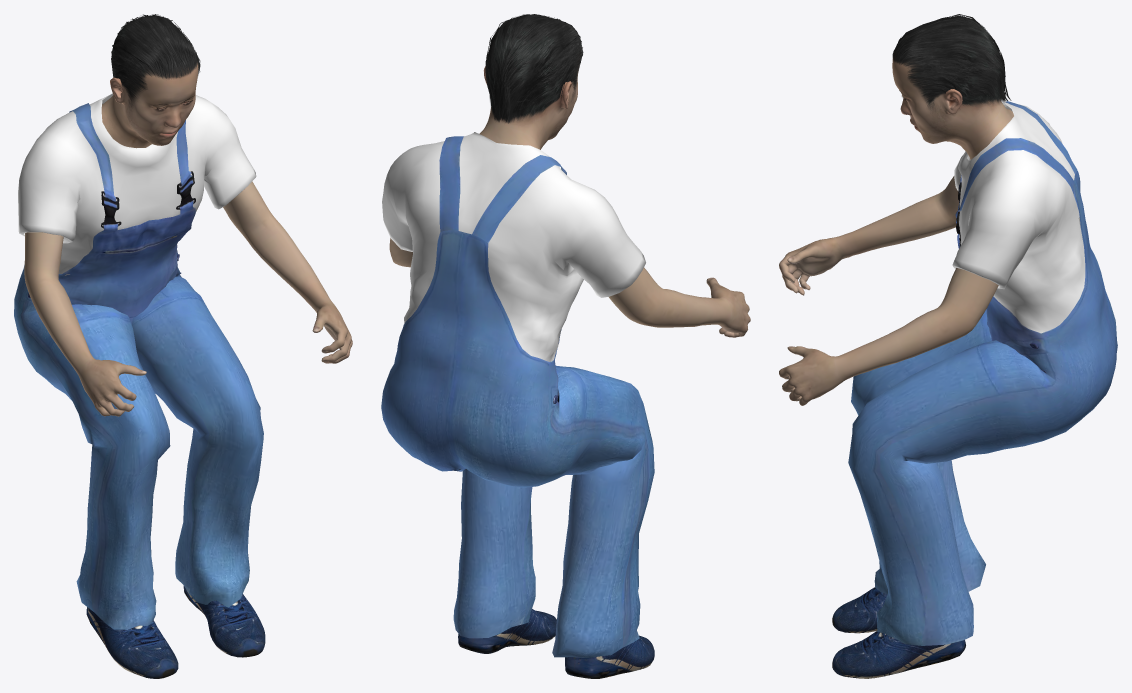
File: uomo-04.glb
3 renders of one model, left to right at view 1: azimuth 30°, elevation 25°; view 2: azimuth 150°, elevation 25°; view 3: azimuth 270°, elevation 25°, orthographic. The views are drawn at different scales.
Parts seen in each view (by area): view 1: Human.male_worksuit01, Human, Human.shoes06, Human.short04; view 2: Human.male_worksuit01, Human, Human.short04, Human.shoes06; view 3: Human.male_worksuit01, Human, Human.short04, Human.shoes06.
Part boxes in pixels (<box>): Human.male_worksuit01: <box>14,93,263,629</box>; Human: <box>24,62,352,416</box>; Human.shoes06: <box>86,585,265,678</box>; Human.short04: <box>111,14,200,107</box>; Human.male_worksuit01: <box>381,132,654,657</box>; Human: <box>389,66,750,337</box>; Human.short04: <box>485,14,583,123</box>; Human.shoes06: <box>458,609,654,678</box>; Human.male_worksuit01: <box>848,101,1117,645</box>; Human: <box>779,56,1013,405</box>; Human.short04: <box>892,14,1011,109</box>; Human.shoes06: <box>832,587,965,678</box>.
Size of the model in its own units: 0.6061 by 1.36 by 0.6633.
12 materials, 12 textured.
